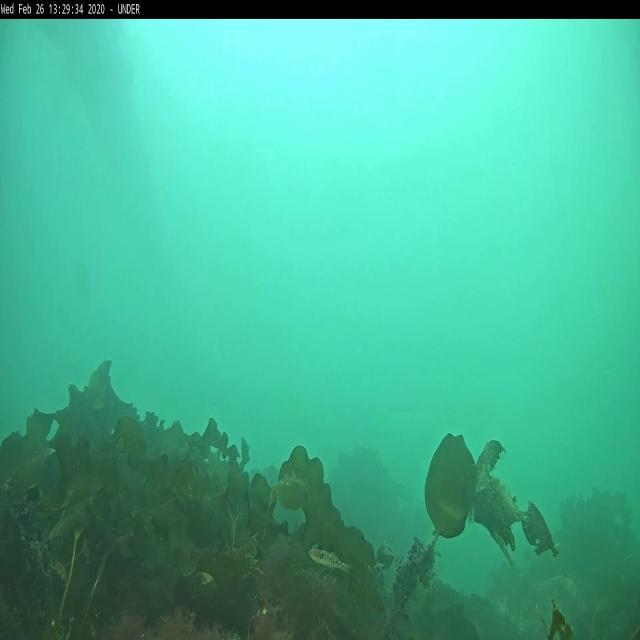fish: (310, 547, 353, 576)
